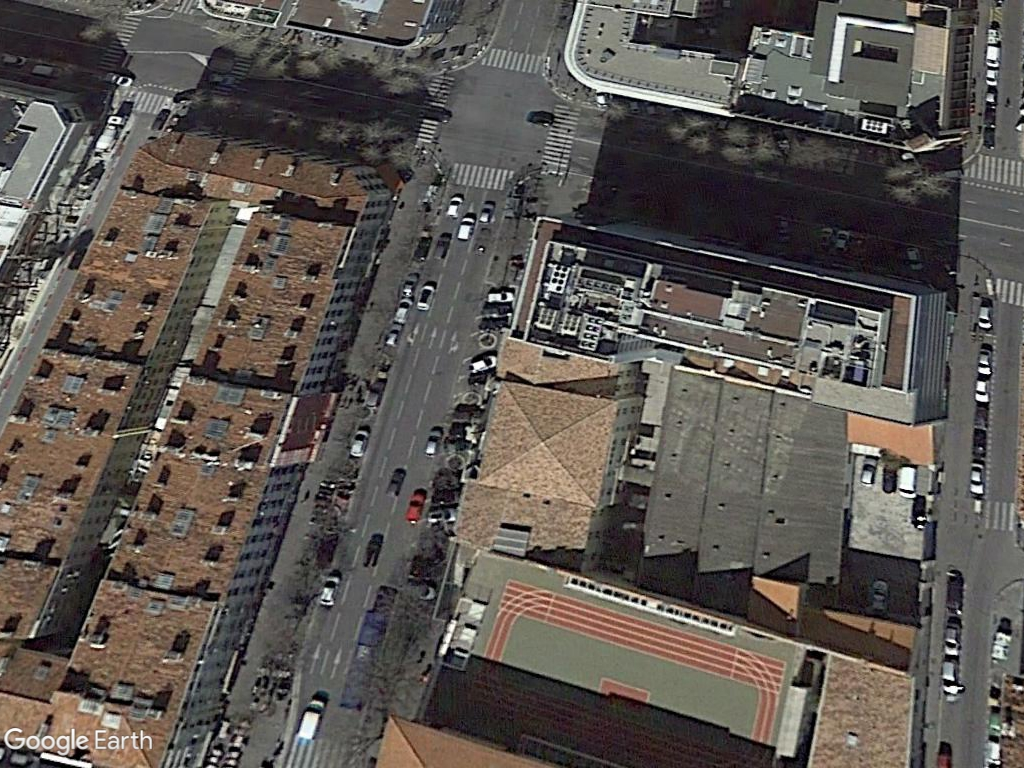car: (317, 572, 342, 609), (348, 426, 369, 459), (424, 425, 443, 461), (484, 288, 518, 304)
van: (295, 692, 327, 743), (894, 459, 918, 500), (447, 192, 464, 221)
